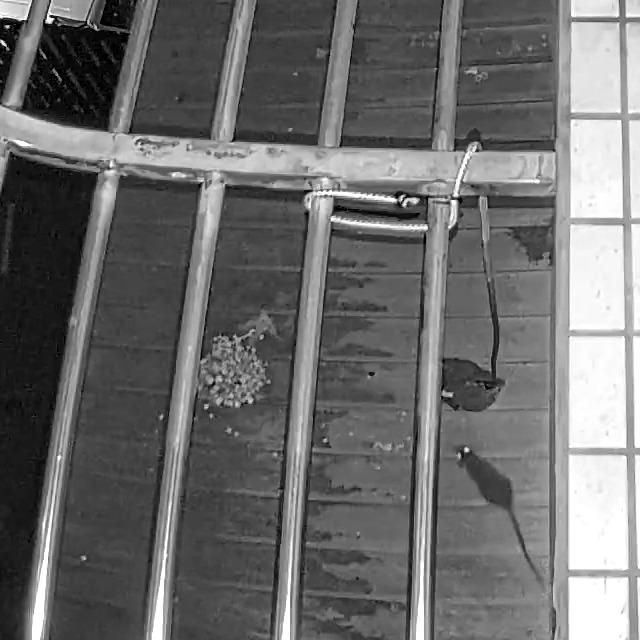rat: (456, 442, 542, 588)
